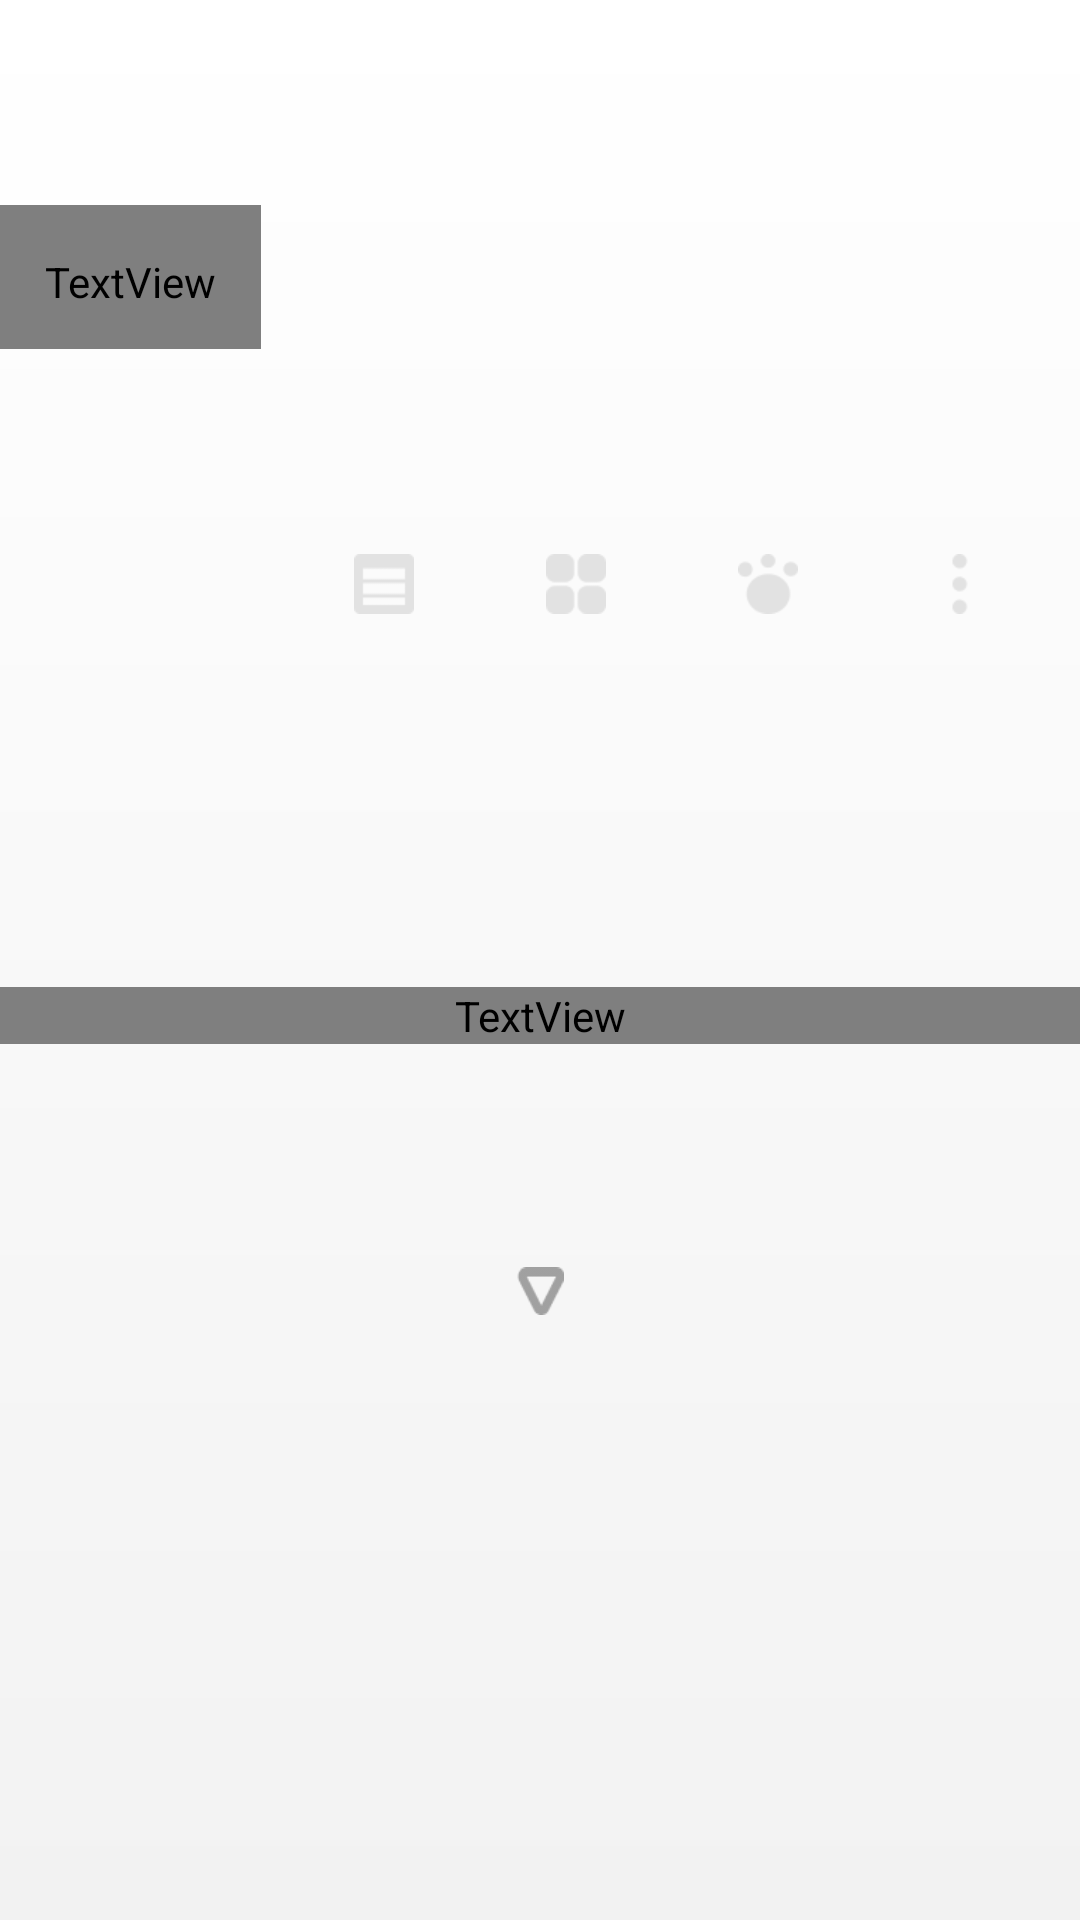

Screen size 1080x1920. Icon name, then its center in pixels as point (x, y):
select month: point (541, 1291)
